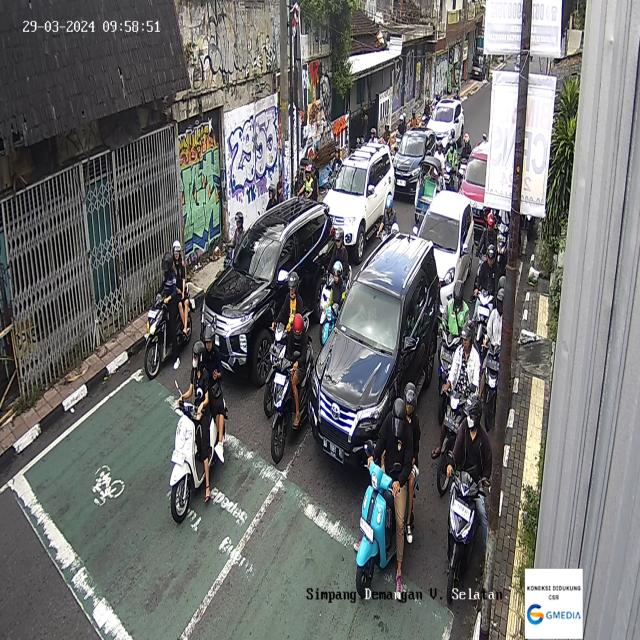car: (308, 229, 440, 466), (199, 195, 347, 388), (324, 143, 396, 265), (412, 190, 475, 308), (459, 140, 494, 233), (392, 128, 437, 198), (427, 98, 464, 150)
motorcycle: (354, 381, 424, 600), (169, 324, 228, 524), (437, 394, 492, 604), (436, 319, 479, 493), (143, 239, 194, 380), (269, 312, 314, 463), (264, 270, 303, 418), (438, 280, 472, 424), (479, 275, 507, 432), (320, 228, 352, 340), (471, 245, 501, 344), (319, 262, 352, 347), (475, 212, 497, 295), (221, 210, 246, 271), (293, 162, 320, 205), (375, 194, 398, 238), (495, 209, 509, 274), (325, 146, 343, 193), (458, 132, 472, 190), (443, 139, 458, 190), (395, 112, 407, 152), (379, 123, 392, 154), (420, 99, 431, 128)
